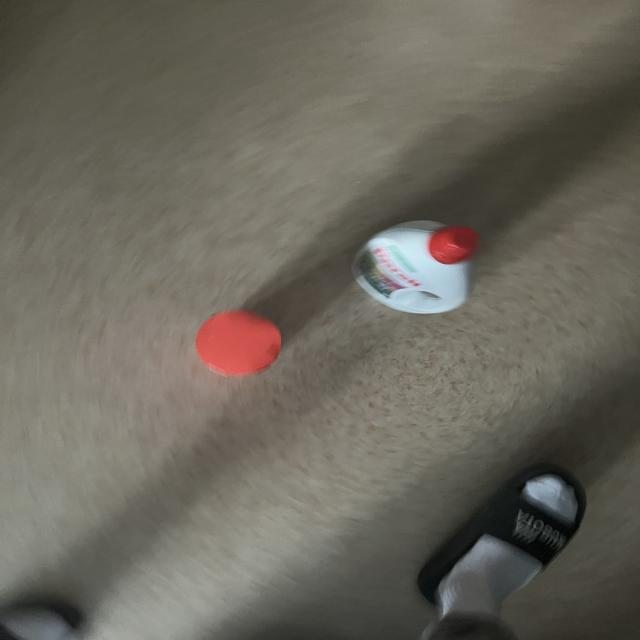przeszkoda: (195, 310, 281, 377)
